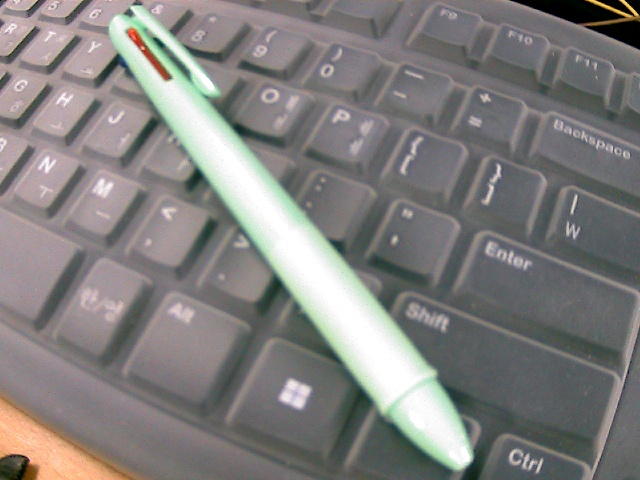pen: (98, 2, 504, 470)
